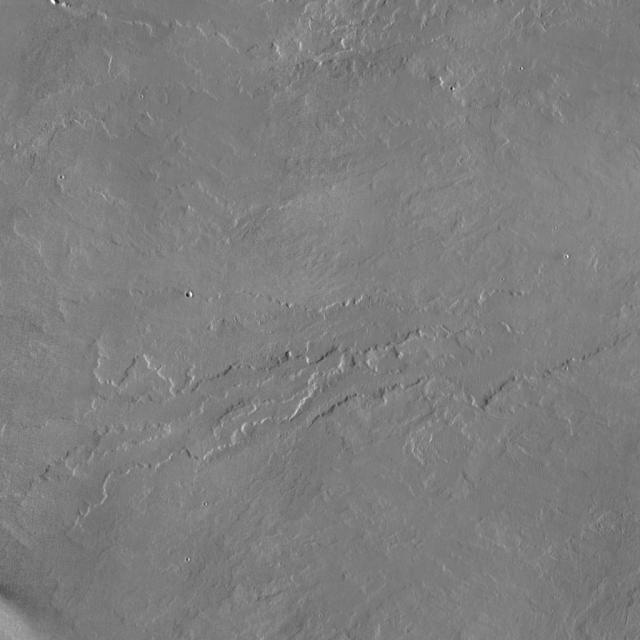crater: (186, 290, 193, 297)
